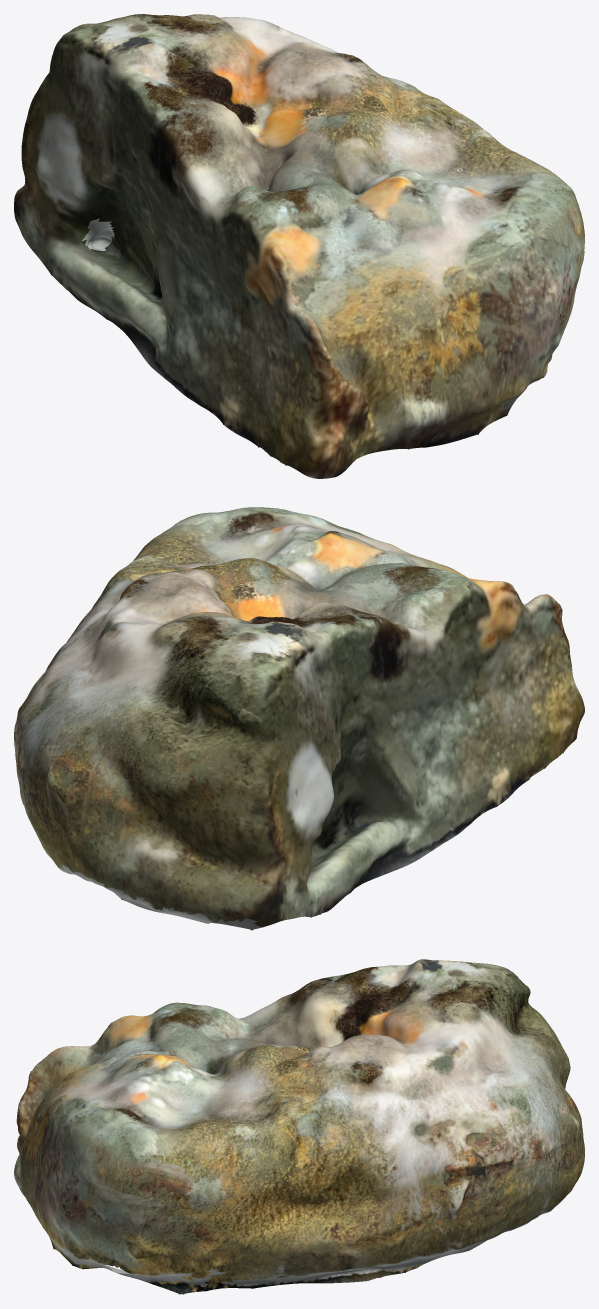
Rendered from musgo2.fbx.
3 views of the same model, one above another, from view 1: azimuth 30°, elevation 25°; view 2: azimuth 150°, elevation 25°; view 3: azimuth 270°, elevation 25° (orthographic). The views are drawn at different scales.
Parts seen in each view (by area): view 1: model.003; view 2: model.003; view 3: model.003.
Boxes of the visible parts, <box> form: model.003: <box>14,14,584,478</box>; model.003: <box>14,507,584,930</box>; model.003: <box>14,959,584,1294</box>.
Size of the model in its own units: 182 by 134 by 300.
Materials: 2 (2 with a texture image).
